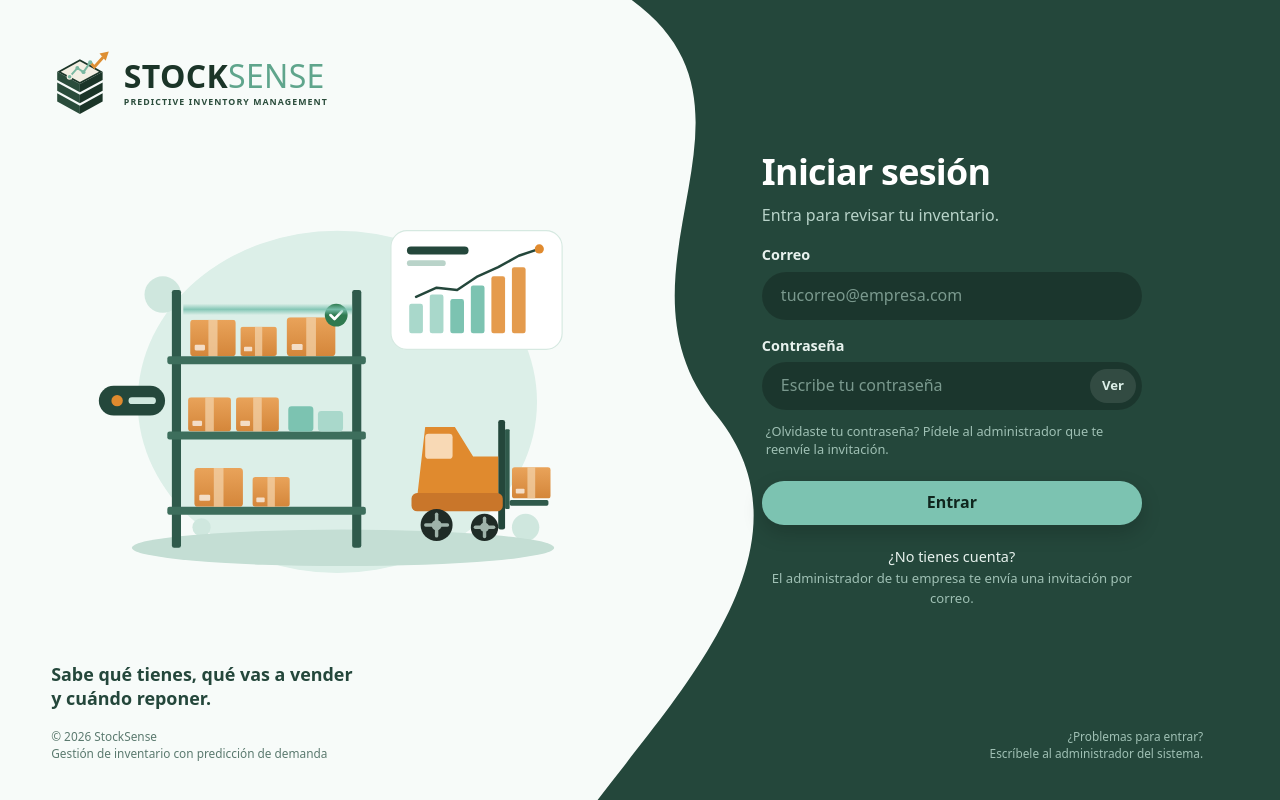
Pantalla de login (T-01.3) › muestra errores comprensibles si faltan datos
Click the button "Entrar": (952, 503) left=762, top=481, right=1142, bottom=525
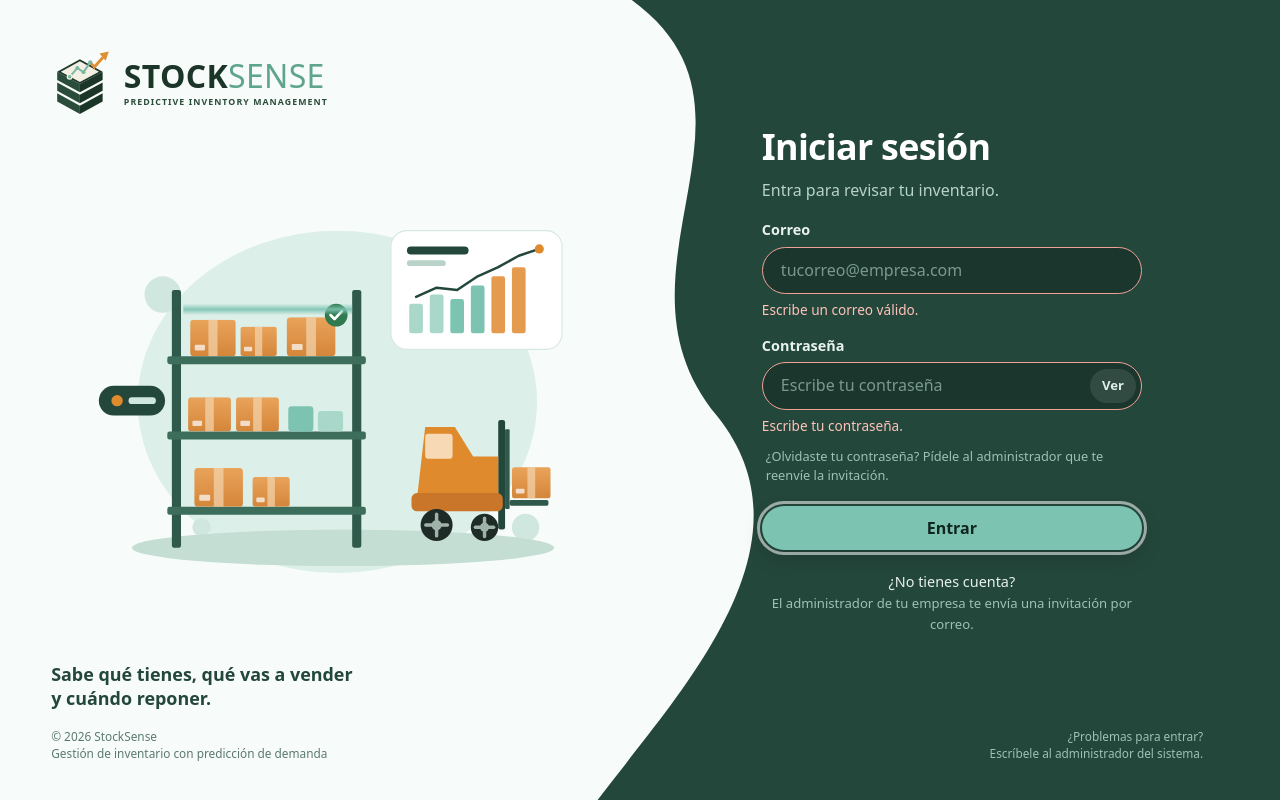
Expected: the text "Escribe un correo válido." is shown, left=762, top=300, right=918, bottom=319
Expected: the text "Escribe tu contraseña." is shown, left=762, top=416, right=903, bottom=435
